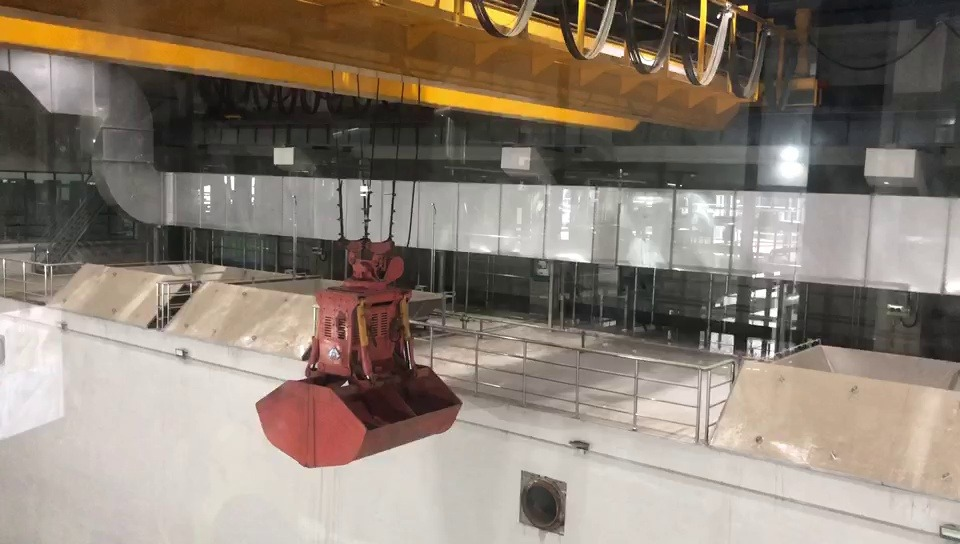grab: (251, 225, 464, 470)
